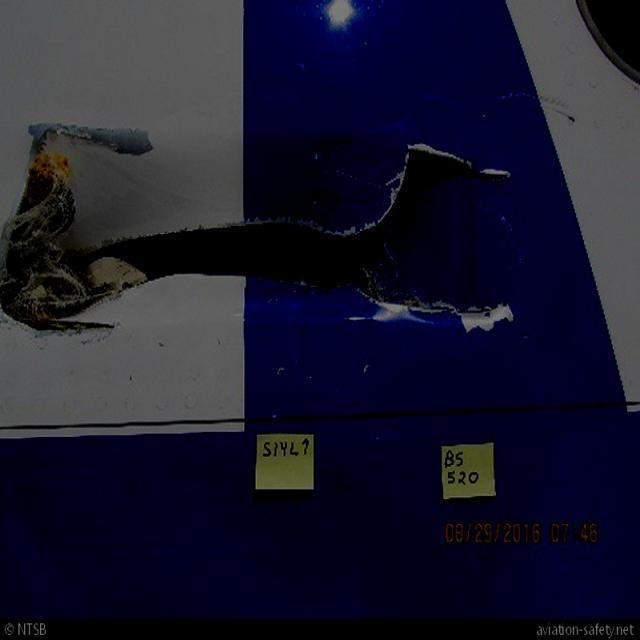crack: (401, 276, 504, 336)
